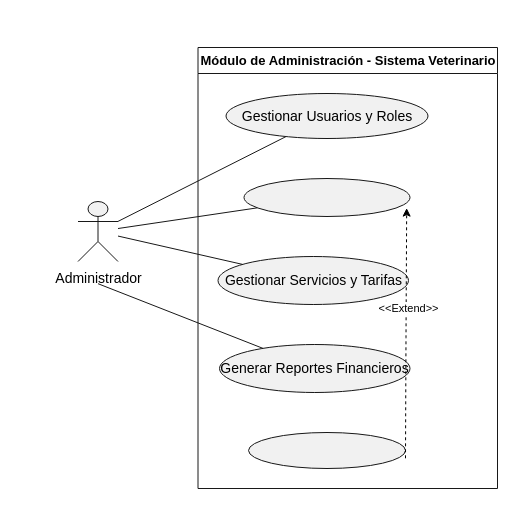
The diagram is 515 pixels wide and 506 high, and some of its shapes have lost their labels. Here are the shapes that lost their labels. From the top down, the centre of each, then its label:
At point (326, 197): "Gestionar Inventario".
At point (327, 450): "Alertar Stock Bajo".
